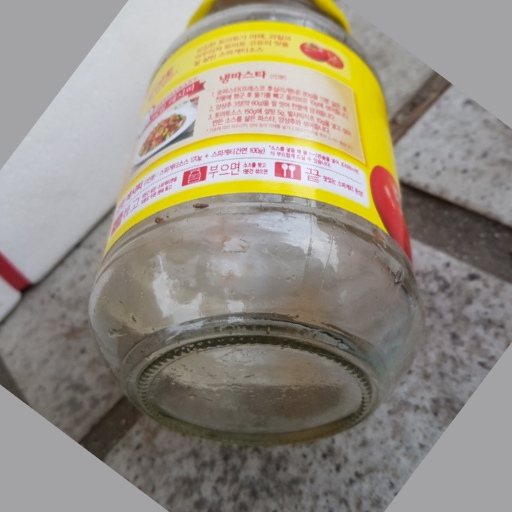Glass_5: (83, 1, 429, 439)
